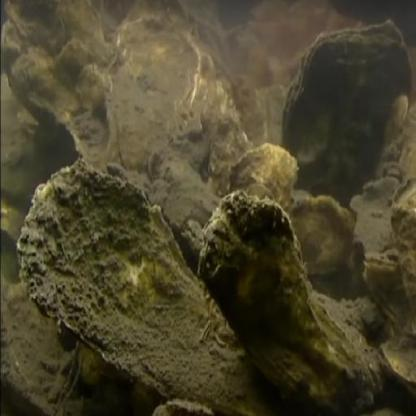Oyster- Indeterminate: (285, 21, 413, 203), (364, 252, 397, 275)
Oyster-Closed: (23, 163, 244, 405), (201, 193, 374, 416), (114, 26, 201, 170), (293, 197, 358, 274), (229, 147, 297, 198), (377, 335, 416, 392)
